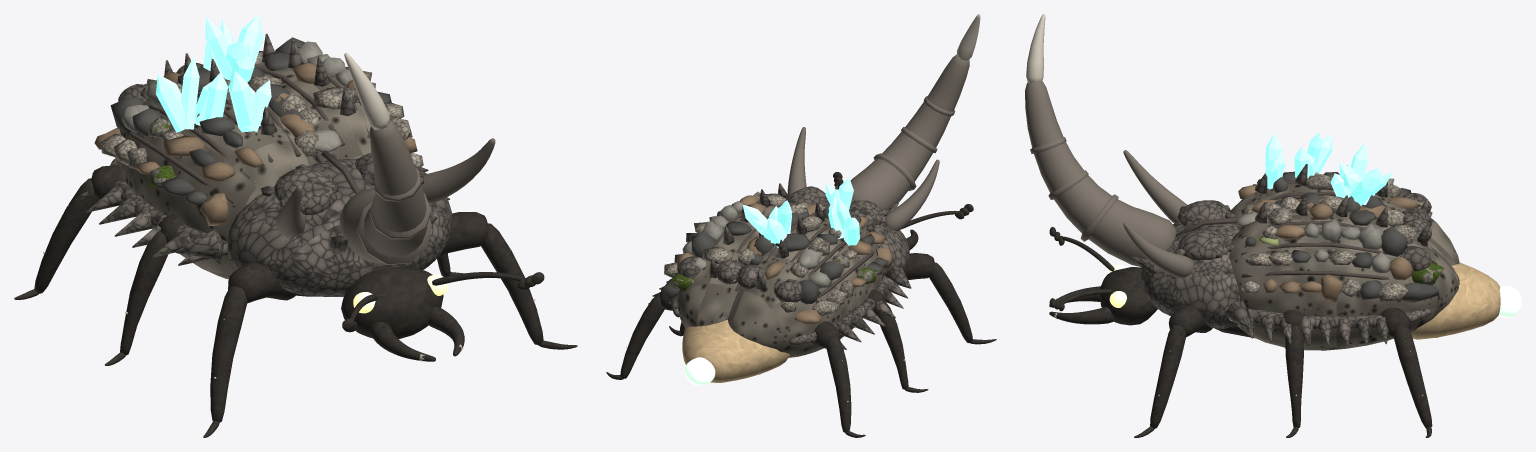
File: great_rock_beetle_v1.glb
The picture shows the model from 3 angles, left to right: view 1: azimuth 30°, elevation 25°; view 2: azimuth 150°, elevation 25°; view 3: azimuth 270°, elevation 25°; orthographic projection. The views are drawn at different scales.
Parts seen in each view (by area): view 1: body, leg_l0, leg_r0, leg_l2, leg_l1; view 2: body, leg_l0, leg_l2, leg_r2, leg_l1; view 3: body, leg_r0, leg_r2, leg_r1.
Boxes of the visible parts, <box> form: body: <box>75,14,544,361</box>; leg_l0: <box>203,262,297,437</box>; leg_r0: <box>437,212,577,349</box>; leg_l2: <box>14,165,125,299</box>; leg_l1: <box>105,214,186,365</box>; body: <box>648,14,980,385</box>; leg_l0: <box>904,253,996,344</box>; leg_l2: <box>812,321,865,437</box>; leg_r2: <box>606,288,676,379</box>; leg_l1: <box>867,289,928,392</box>; body: <box>1025,14,1521,350</box>; leg_r0: <box>1134,305,1212,437</box>; leg_r2: <box>1380,307,1432,437</box>; leg_r1: <box>1280,310,1303,437</box>.
Size of the model in its own units: 1.16 by 1.22 by 1.73.
Materials: 17 (9 with a texture image).
